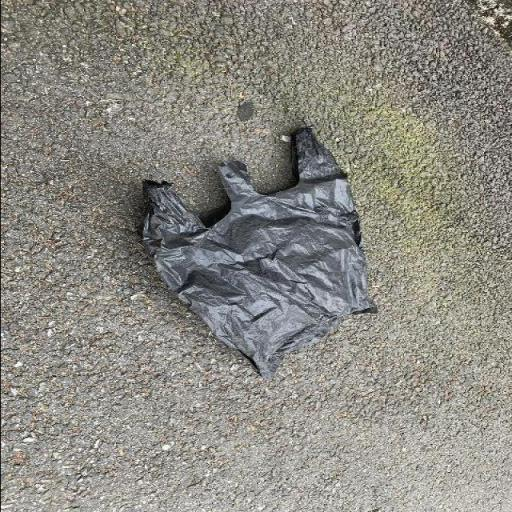plastic-bag: (131, 122, 380, 381)
